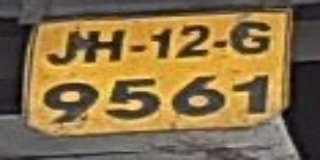1: (230, 70, 277, 121), (145, 24, 174, 64)
2: (174, 22, 216, 64)
5: (104, 75, 164, 124)
6: (168, 71, 229, 121)
9: (38, 80, 101, 124)
G: (228, 18, 276, 61)
H: (84, 26, 128, 69)
J: (45, 28, 82, 70)
